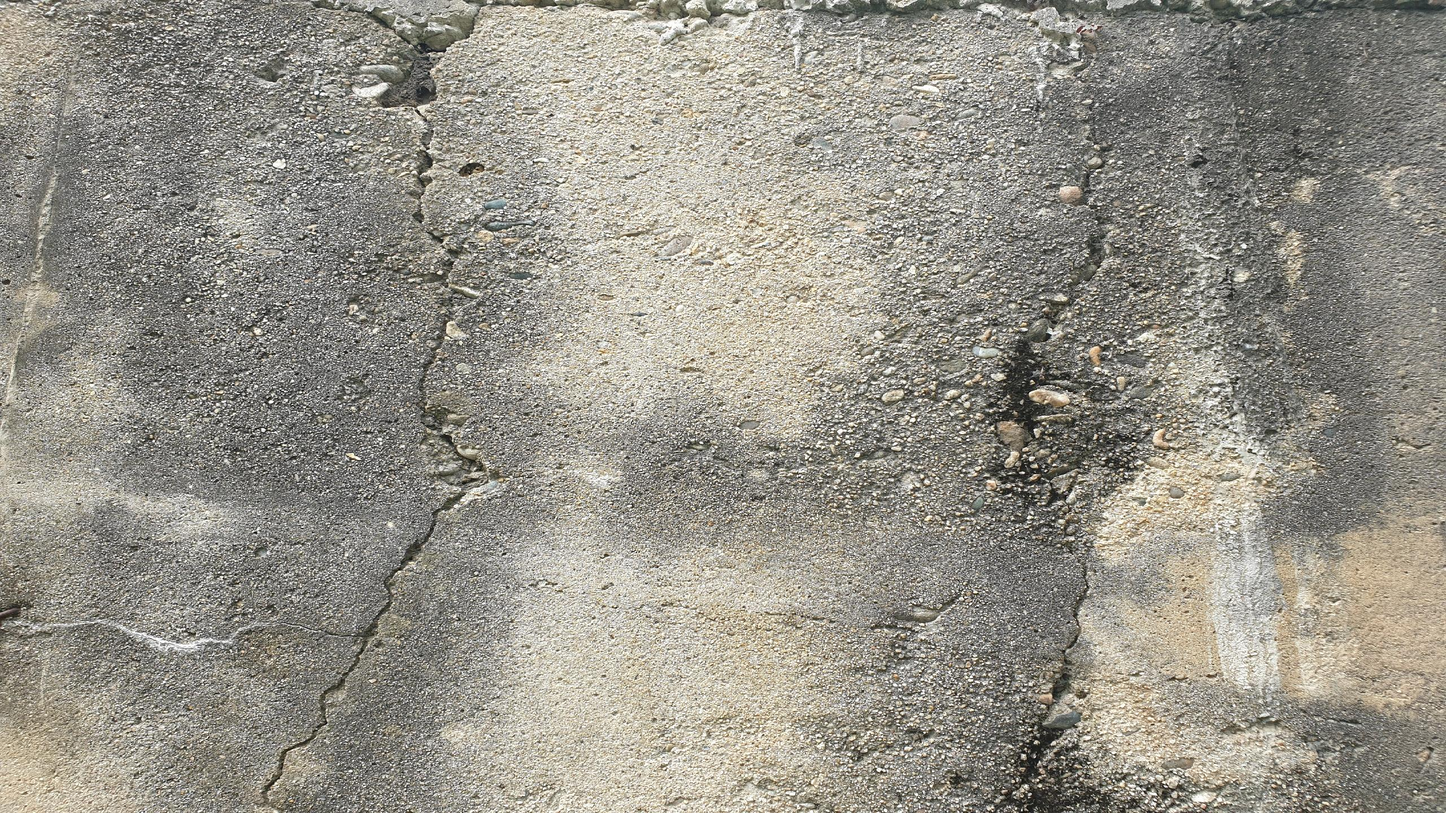crack: (247, 8, 508, 806)
